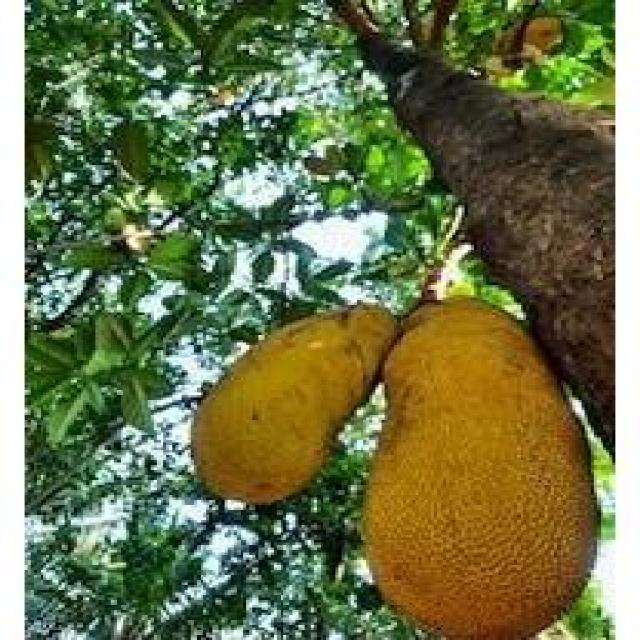Fruit: (323, 275, 615, 640), (166, 285, 425, 540)
